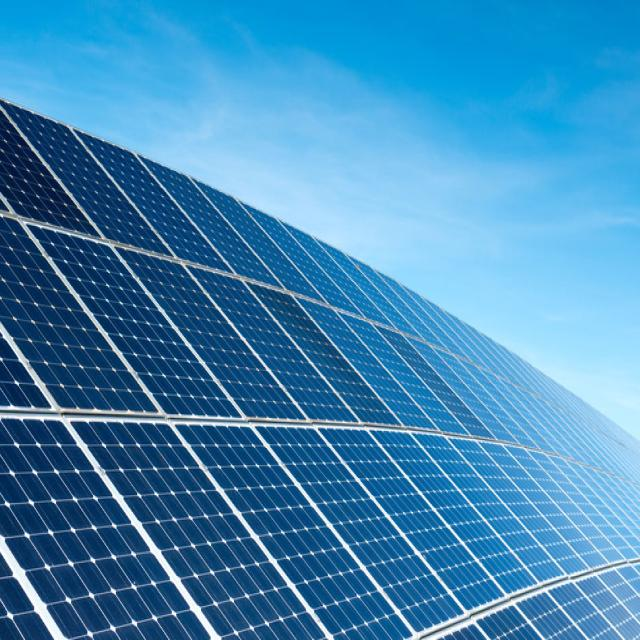clean-solar-panel: (1, 102, 640, 637)
